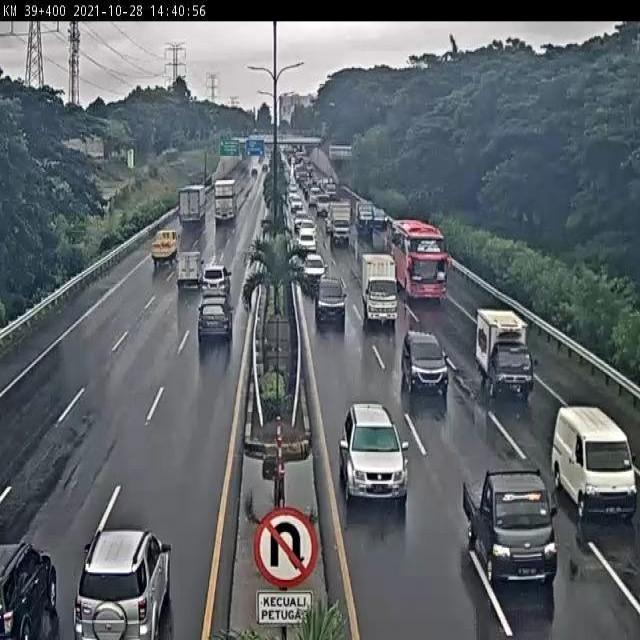bus-l-: (388, 217, 449, 300)
car: (461, 465, 558, 587), (72, 528, 172, 640), (550, 404, 640, 520), (339, 401, 408, 500), (401, 329, 451, 395), (197, 294, 232, 338), (314, 274, 346, 322), (200, 262, 231, 298), (302, 253, 329, 287)
small truck: (150, 228, 181, 267), (174, 248, 205, 287)
truck-m-: (361, 253, 400, 324)
truck-s-: (474, 308, 535, 399)
